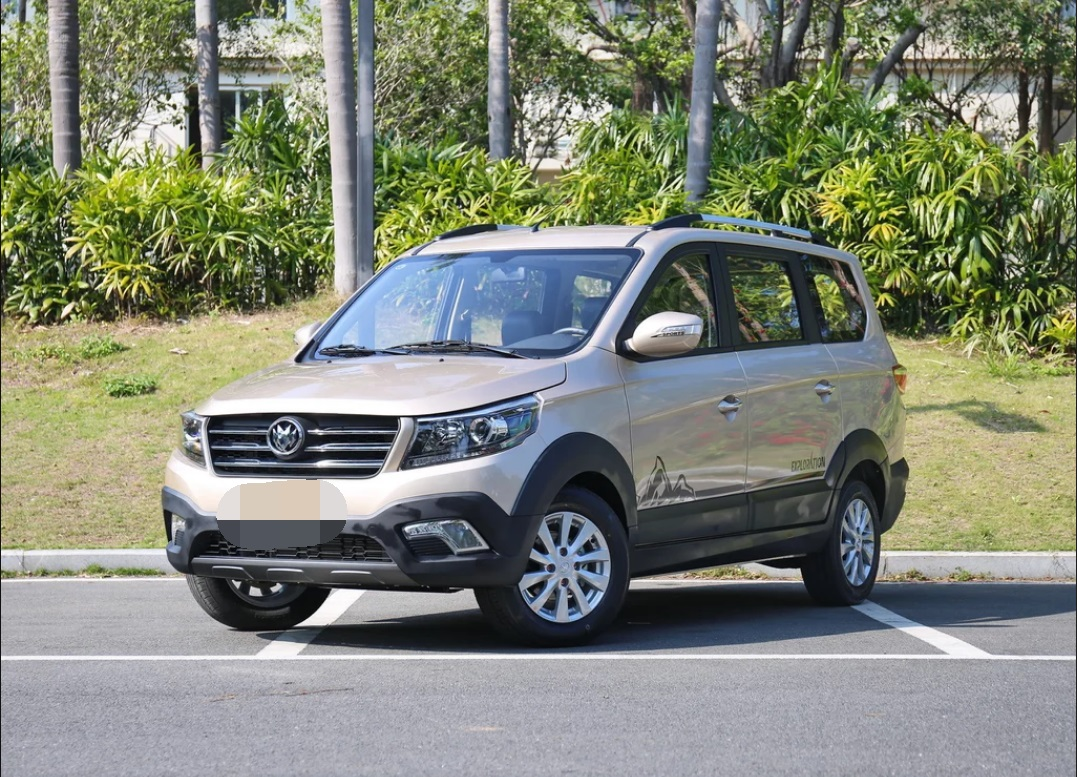SUV: (157, 211, 918, 648)
